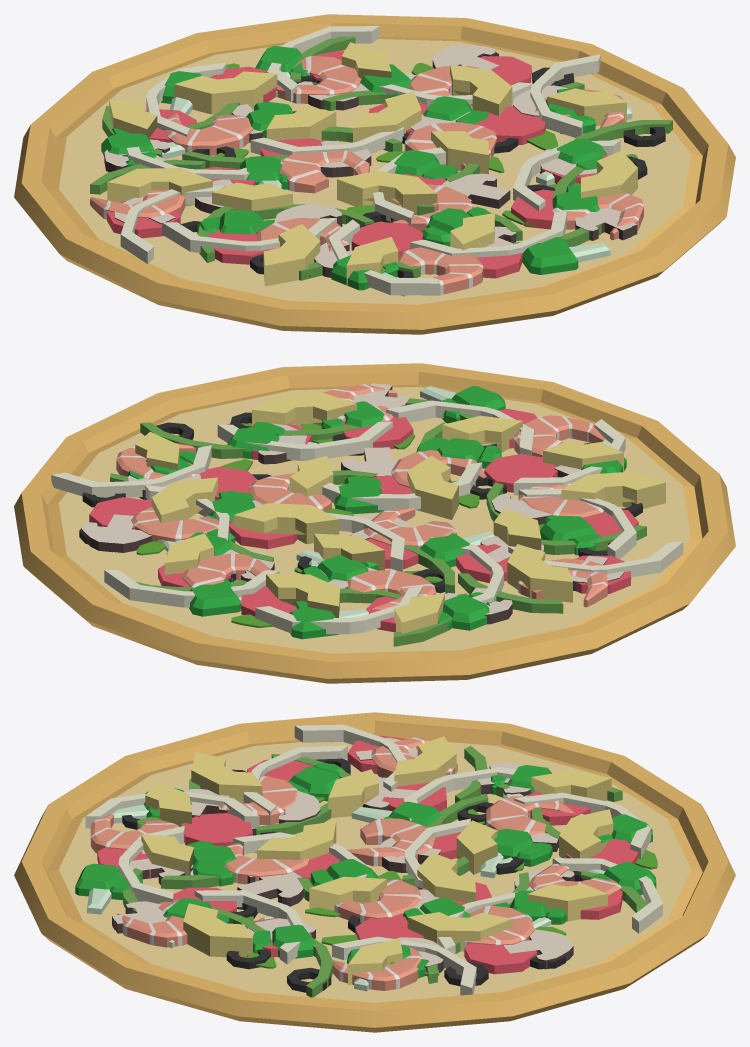
The model's file is Pizza.fbx.
3 views of the same model, one above another, from view 1: azimuth 30°, elevation 25°; view 2: azimuth 150°, elevation 25°; view 3: azimuth 270°, elevation 25° (orthographic).
Parts seen in each view (by area): view 1: pCylinder1, polySurface41, polySurface43, polySurface40, polySurface38, polySurface39, polySurface44, polySurface42, pCylinder49, polySurface1; view 2: pCylinder1, polySurface41, polySurface43, polySurface38, polySurface40, polySurface44, polySurface39, polySurface42, pCylinder49, polySurface1; view 3: pCylinder1, polySurface41, polySurface43, polySurface40, polySurface38, polySurface44, polySurface39, polySurface42, pCylinder49, polySurface1.
Boxes of the visible parts, x1,y1,x2,y2 form: pCylinder1: [14, 14, 735, 334]; polySurface41: [107, 42, 637, 286]; polySurface43: [120, 26, 620, 295]; polySurface40: [90, 56, 643, 295]; polySurface38: [101, 46, 632, 296]; polySurface39: [104, 45, 637, 277]; polySurface44: [107, 50, 608, 278]; polySurface42: [90, 36, 672, 280]; pCylinder49: [180, 52, 665, 277]; polySurface1: [214, 63, 637, 277]; pCylinder1: [14, 363, 735, 683]; polySurface41: [135, 392, 665, 633]; polySurface43: [51, 400, 683, 634]; polySurface38: [128, 386, 626, 639]; polySurface40: [116, 384, 607, 609]; polySurface44: [89, 409, 638, 632]; polySurface39: [82, 383, 624, 624]; polySurface42: [110, 396, 646, 646]; pCylinder49: [79, 412, 642, 593]; polySurface1: [136, 423, 544, 627]; pCylinder1: [14, 712, 735, 1032]; polySurface41: [141, 736, 613, 984]; polySurface43: [85, 724, 662, 995]; polySurface40: [90, 737, 621, 990]; polySurface38: [75, 763, 656, 991]; polySurface44: [97, 735, 638, 974]; polySurface39: [112, 737, 574, 975]; polySurface42: [123, 746, 647, 997]; pCylinder49: [122, 758, 588, 992]; polySurface1: [188, 789, 657, 975].
Size of the model in its own units: 0.9863 by 0.0522 by 0.9863.
